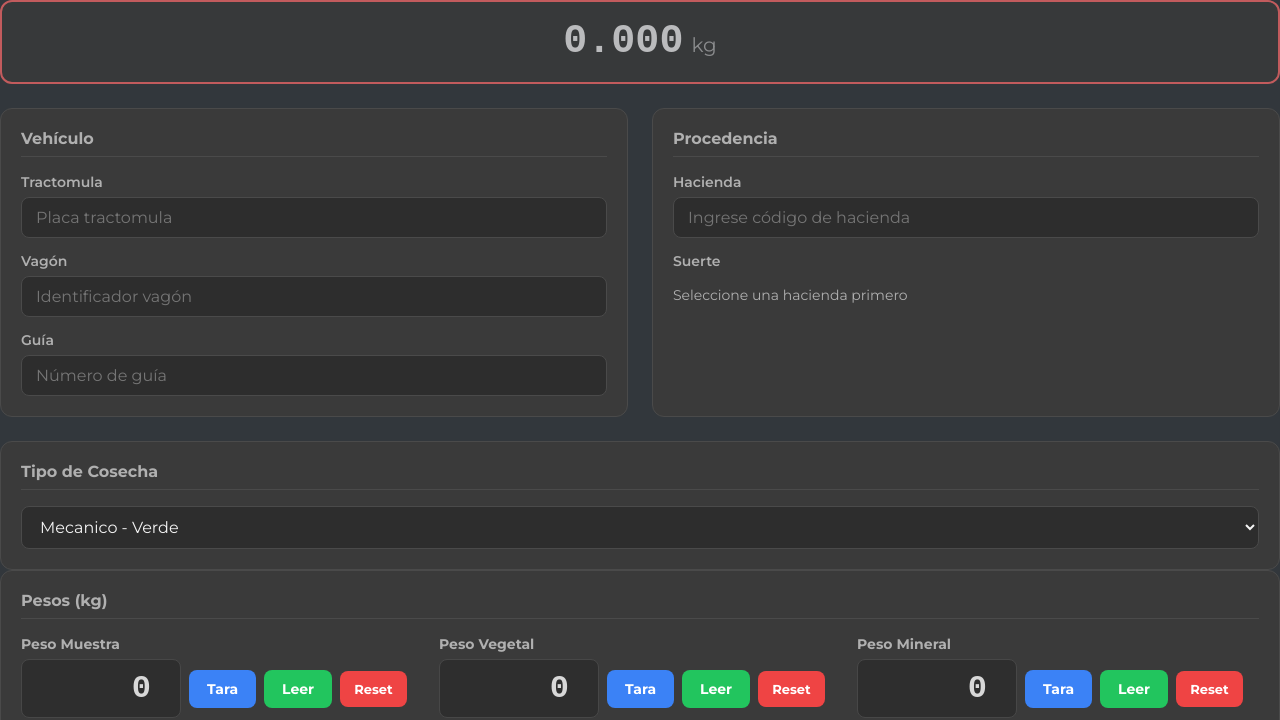
Test: KioskForm — Feature 44: rs232_resend (R1, R2, R4) › modo reenvio se desactiva al presionar Tara o Leer
Fill text fields
Type "ABC-123" into the field with placeholder "Placa tractomula" at x=314, y=218, box x1=21 y1=197 x2=607 y2=238
Type "V5" into the field with placeholder "Identificador vagón" at x=314, y=296, box x1=21 y1=276 x2=607 y2=317
Type "G-789" into the field with placeholder "Número de guía" at x=314, y=376, box x1=21 y1=355 x2=607 y2=396
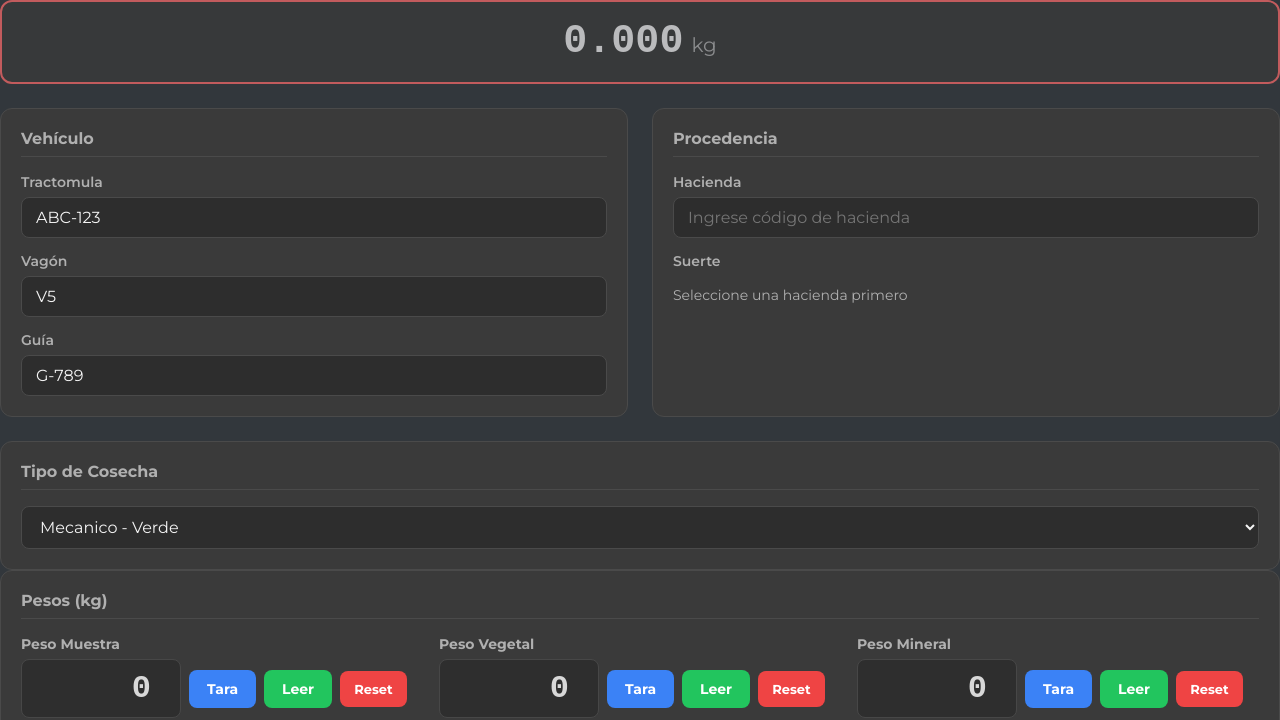
Enter hacienda code
Type "H001" into the field with placeholder "Ingrese código de hacienda" at x=966, y=218, box x1=673 y1=197 x2=1259 y2=238
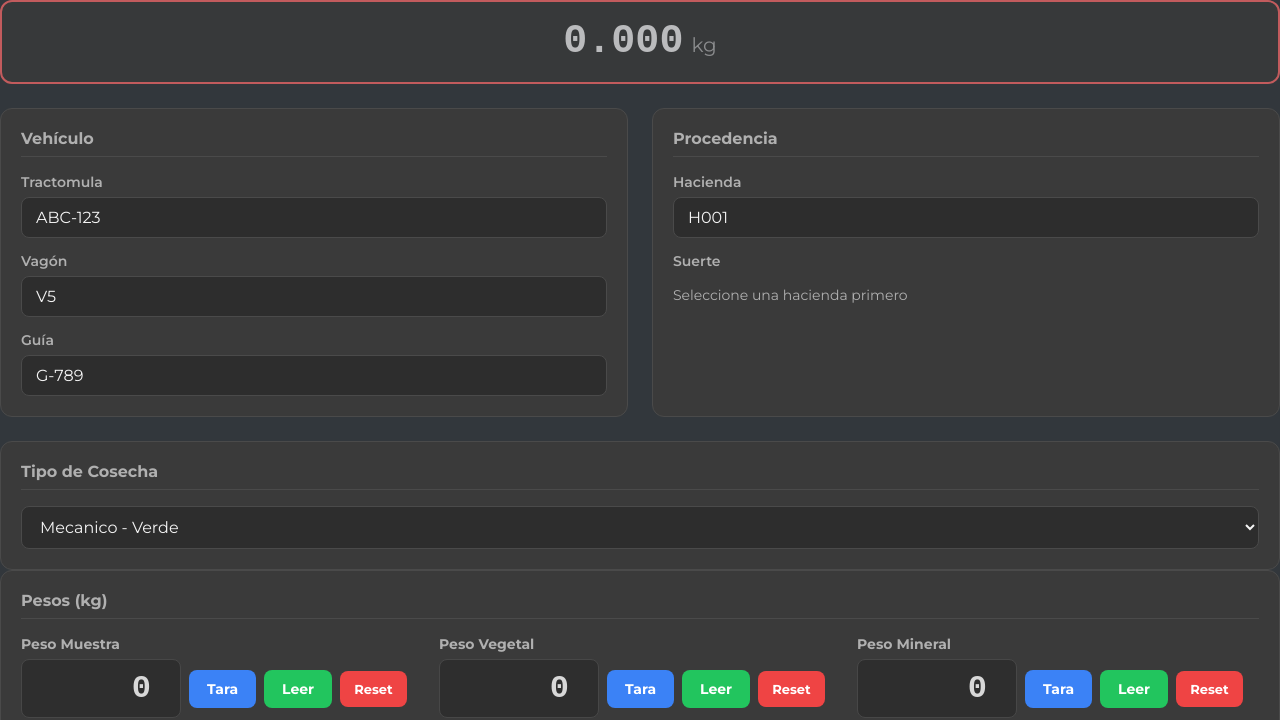
Press Enter in the field with placeholder "Ingrese código de hacienda", box x1=673 y1=197 x2=1259 y2=238
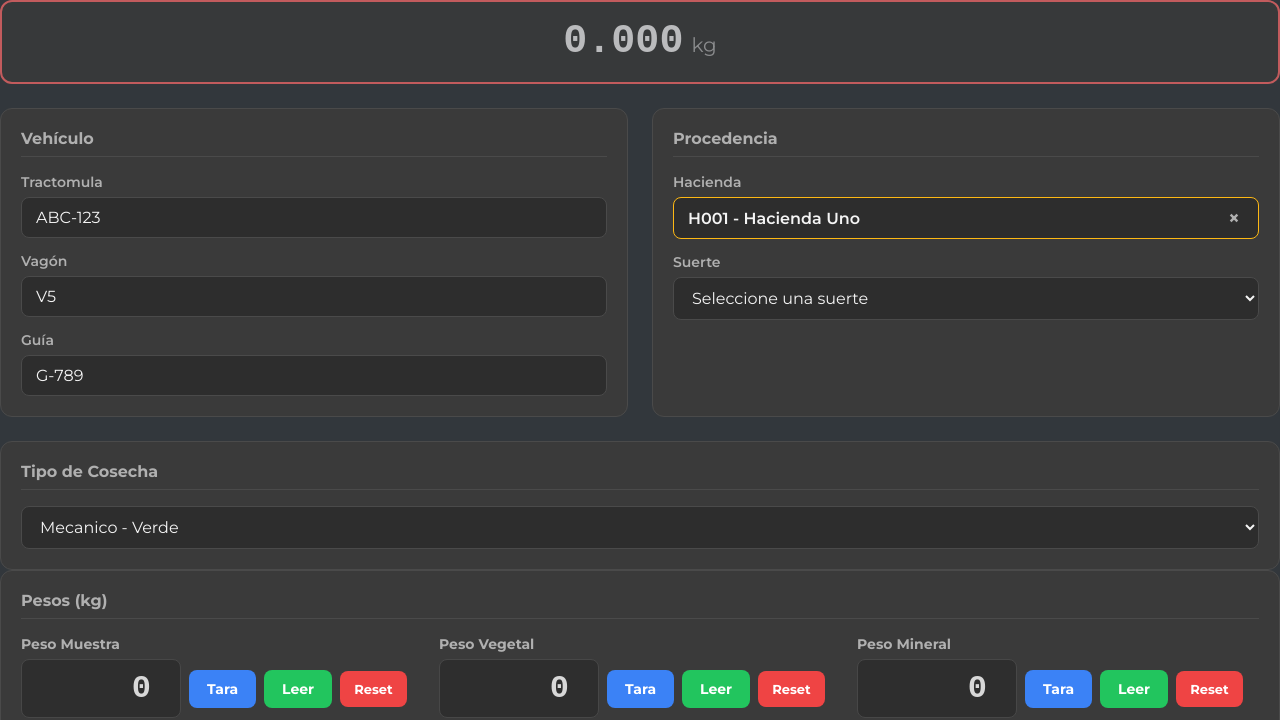
expect the text "H001 - Hacienda Uno" is shown: met, box x1=688 y1=208 x2=860 y2=228
expect the dropdown with id "suerte" is shown: met
Select "S001" in the dropdown with id "suerte" at x=966, y=298, box x1=673 y1=277 x2=1259 y2=320
(page scrolled)
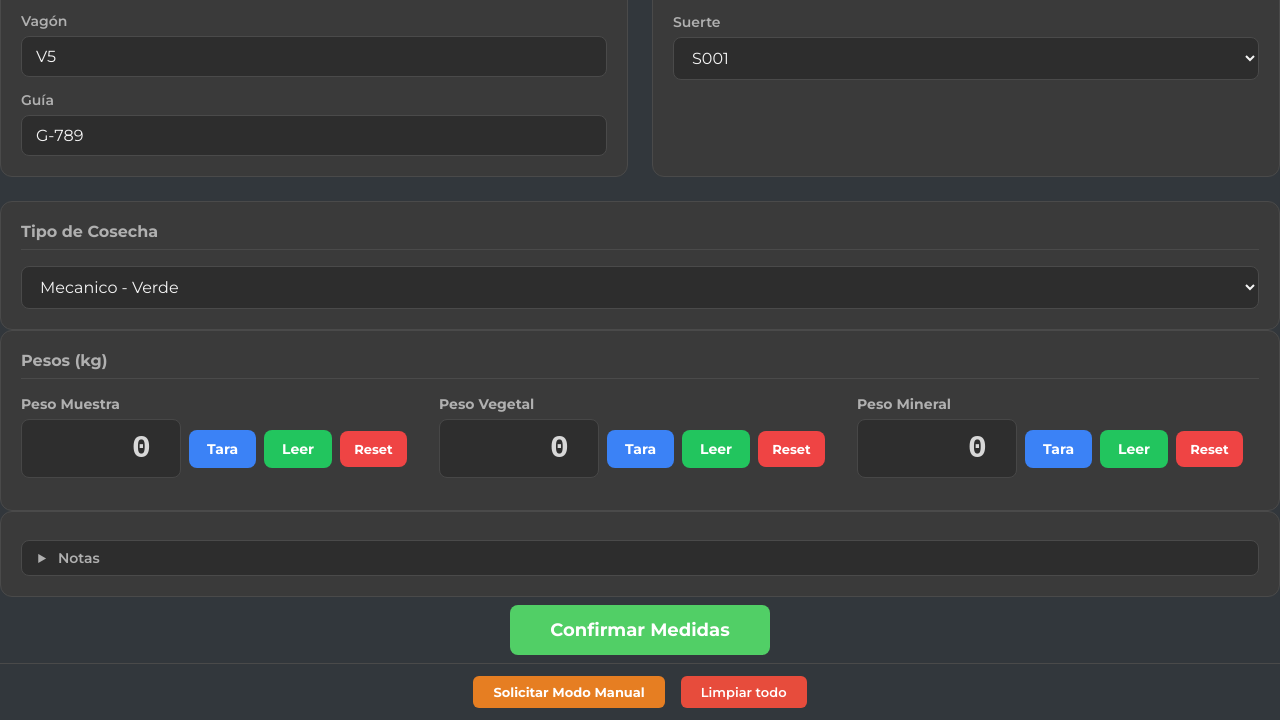
Click Confirmar → enters resendMode
Click the button "Confirmar Medidas" at x=640, y=630, box x1=510 y1=605 x2=770 y2=655
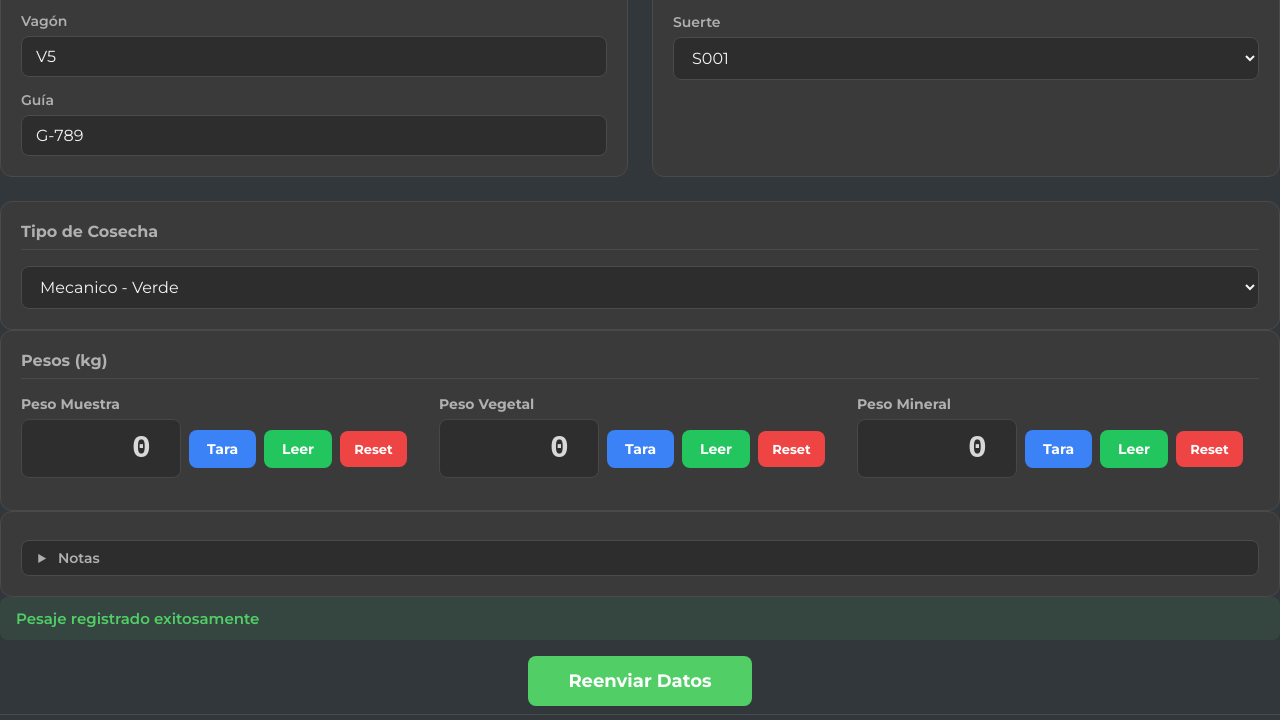
expect the button "Reenviar Datos" is shown: met, box x1=528 y1=656 x2=752 y2=706
Click Tara on first weight field → should exit resendMode
Click the button "Tara" below "Peso Muestra" at x=222, y=448, box x1=189 y1=430 x2=256 y2=468
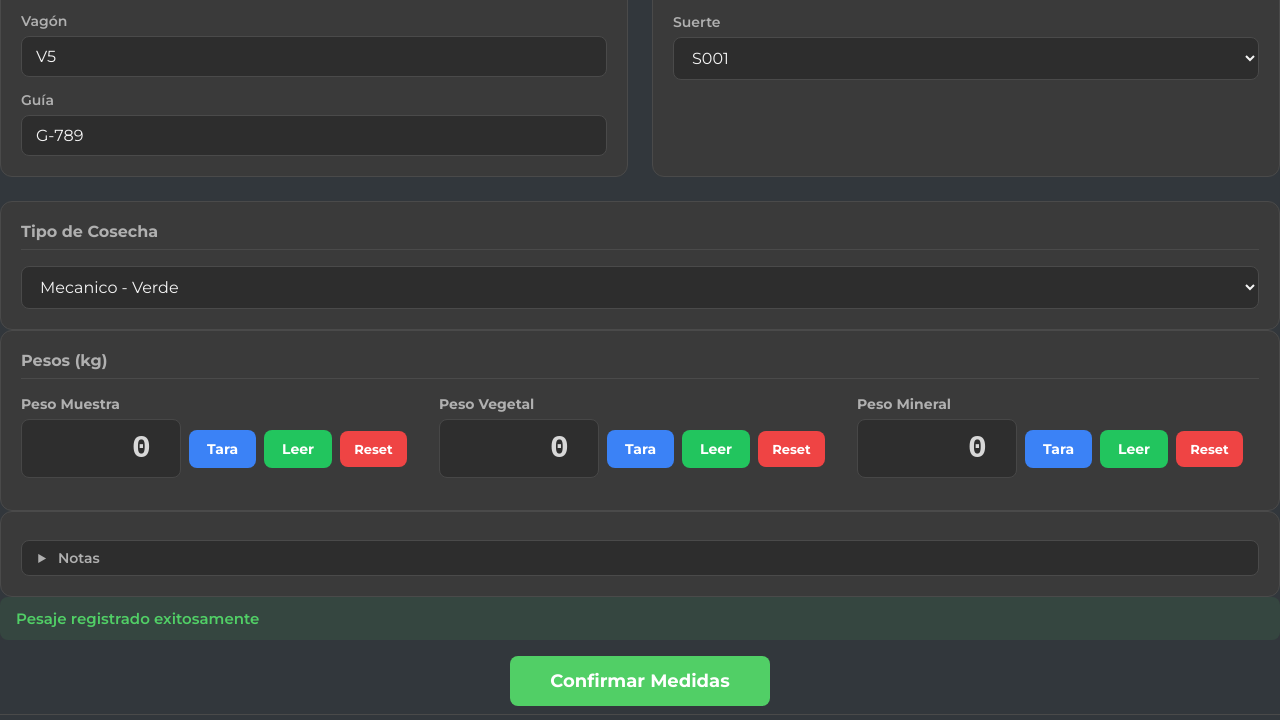
expect the button "Confirmar Medidas" is shown: met, box x1=510 y1=656 x2=770 y2=706
